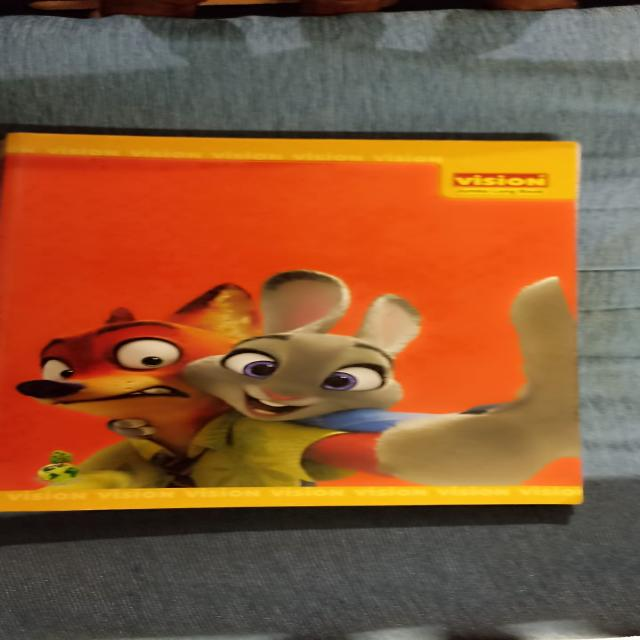book: (4, 122, 588, 514)
